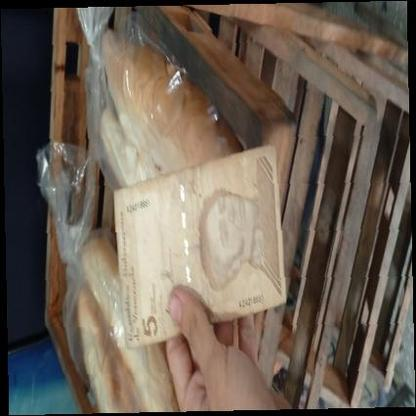five-front-vef: (112, 144, 286, 349)
